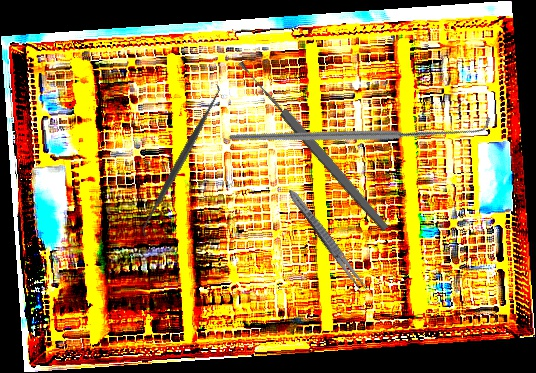Dressing Forceps: (284, 186, 372, 296)
Hook Surgical: (227, 11, 492, 248)
Spatula Surgical: (131, 82, 231, 241)
Surgical Spoon: (236, 57, 391, 234)
